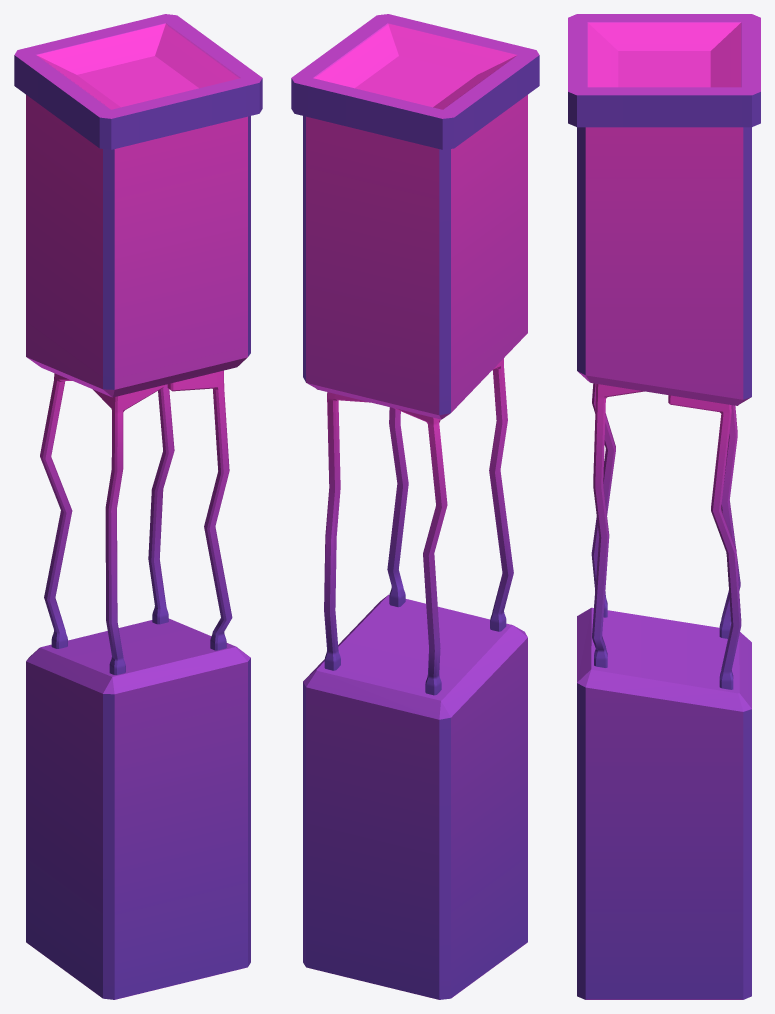
The model's file is buildinghole1.fbx.
3 views of the same model, side by side, from view 1: azimuth 30°, elevation 25°; view 2: azimuth 150°, elevation 25°; view 3: azimuth 270°, elevation 25° (orthographic). The views are drawn at different scales.
Parts seen in each view (by area): view 1: building_2, s_16, s_15, s_17, s_14; view 2: building_2, s_17, s_14, s_16, s_15; view 3: building_2, s_14, s_15, s_17, s_16.
Boxes of the visible parts, bbox=[...] form: building_2: bbox=[14, 14, 262, 999]; s_16: bbox=[93, 385, 164, 674]; s_15: bbox=[167, 370, 232, 650]; s_17: bbox=[40, 373, 72, 648]; s_14: bbox=[148, 384, 174, 624]; building_2: bbox=[291, 14, 539, 999]; s_17: bbox=[393, 408, 447, 695]; s_14: bbox=[324, 392, 370, 670]; s_16: bbox=[489, 358, 513, 631]; s_15: bbox=[387, 407, 408, 607]; building_2: bbox=[568, 14, 760, 999]; s_14: bbox=[668, 395, 741, 689]; s_15: bbox=[592, 384, 644, 667]; s_17: bbox=[719, 405, 740, 638]; s_16: bbox=[591, 383, 615, 617].
Size of the model in its own units: 55 by 286 by 55.
